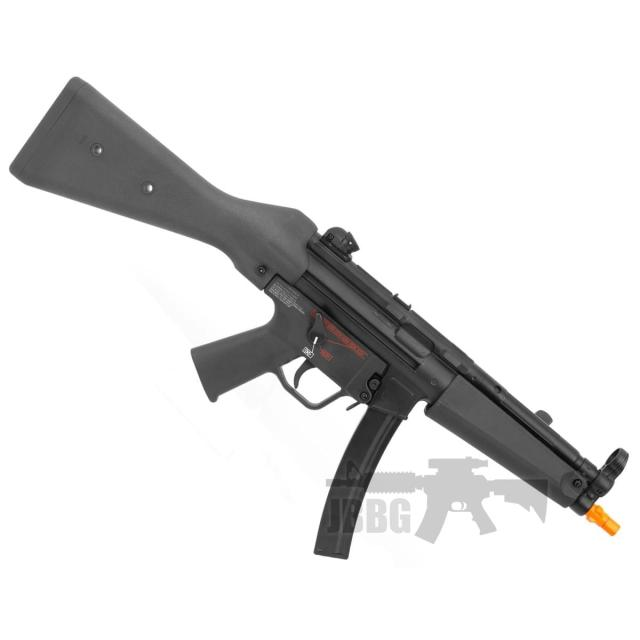SMG: (9, 77, 630, 562)
